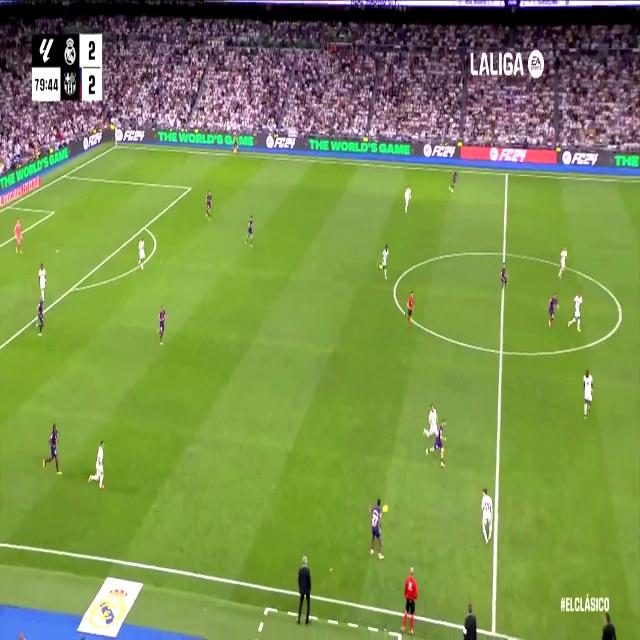bigarea_top_inner: (186, 182, 192, 194)
bigarea_top_outter: (62, 169, 68, 179)
bottom_arc_area_intersection: (68, 280, 77, 296)
corner: (113, 142, 119, 148)
halfcircle_bottom: (496, 336, 508, 365)
halfcircle_top: (499, 242, 511, 264)
midline_bottom_intersection: (486, 614, 501, 640)
midline_top_intersection: (503, 165, 511, 183)
smallarea_top_inner: (51, 208, 54, 215)
top_arc_area_intersection: (141, 219, 147, 233)
